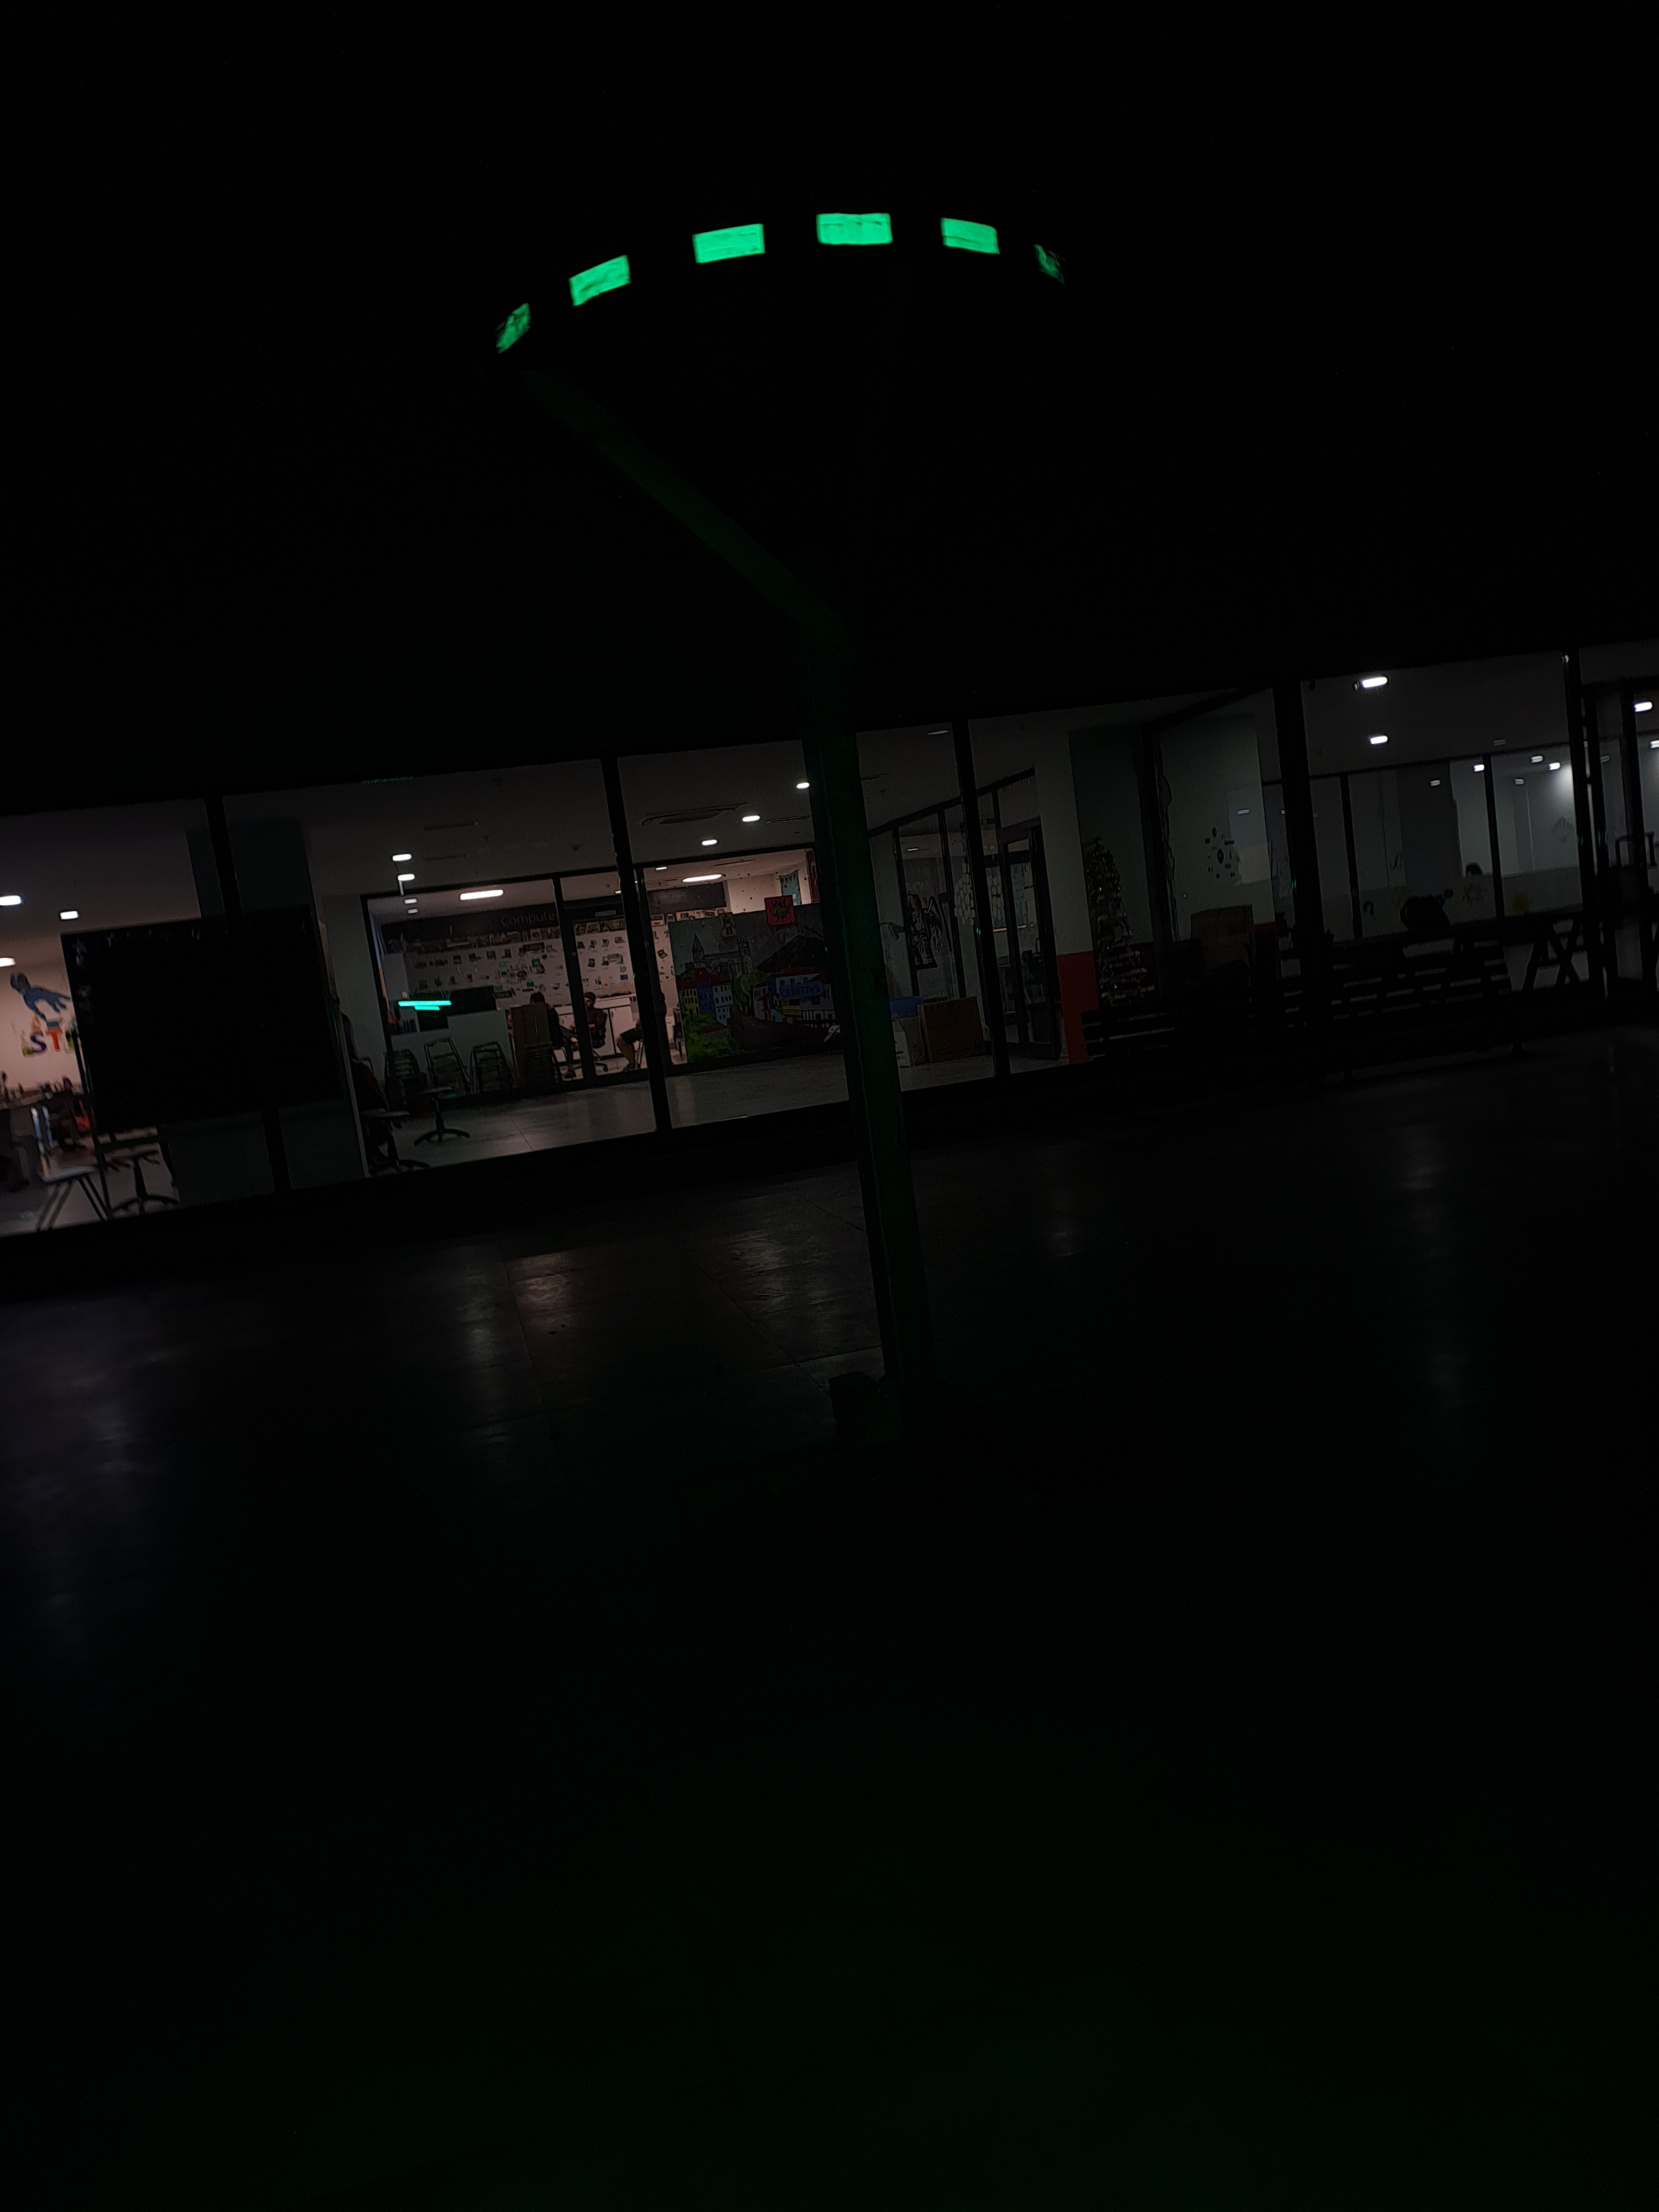hoop: (491, 212, 1063, 359)
